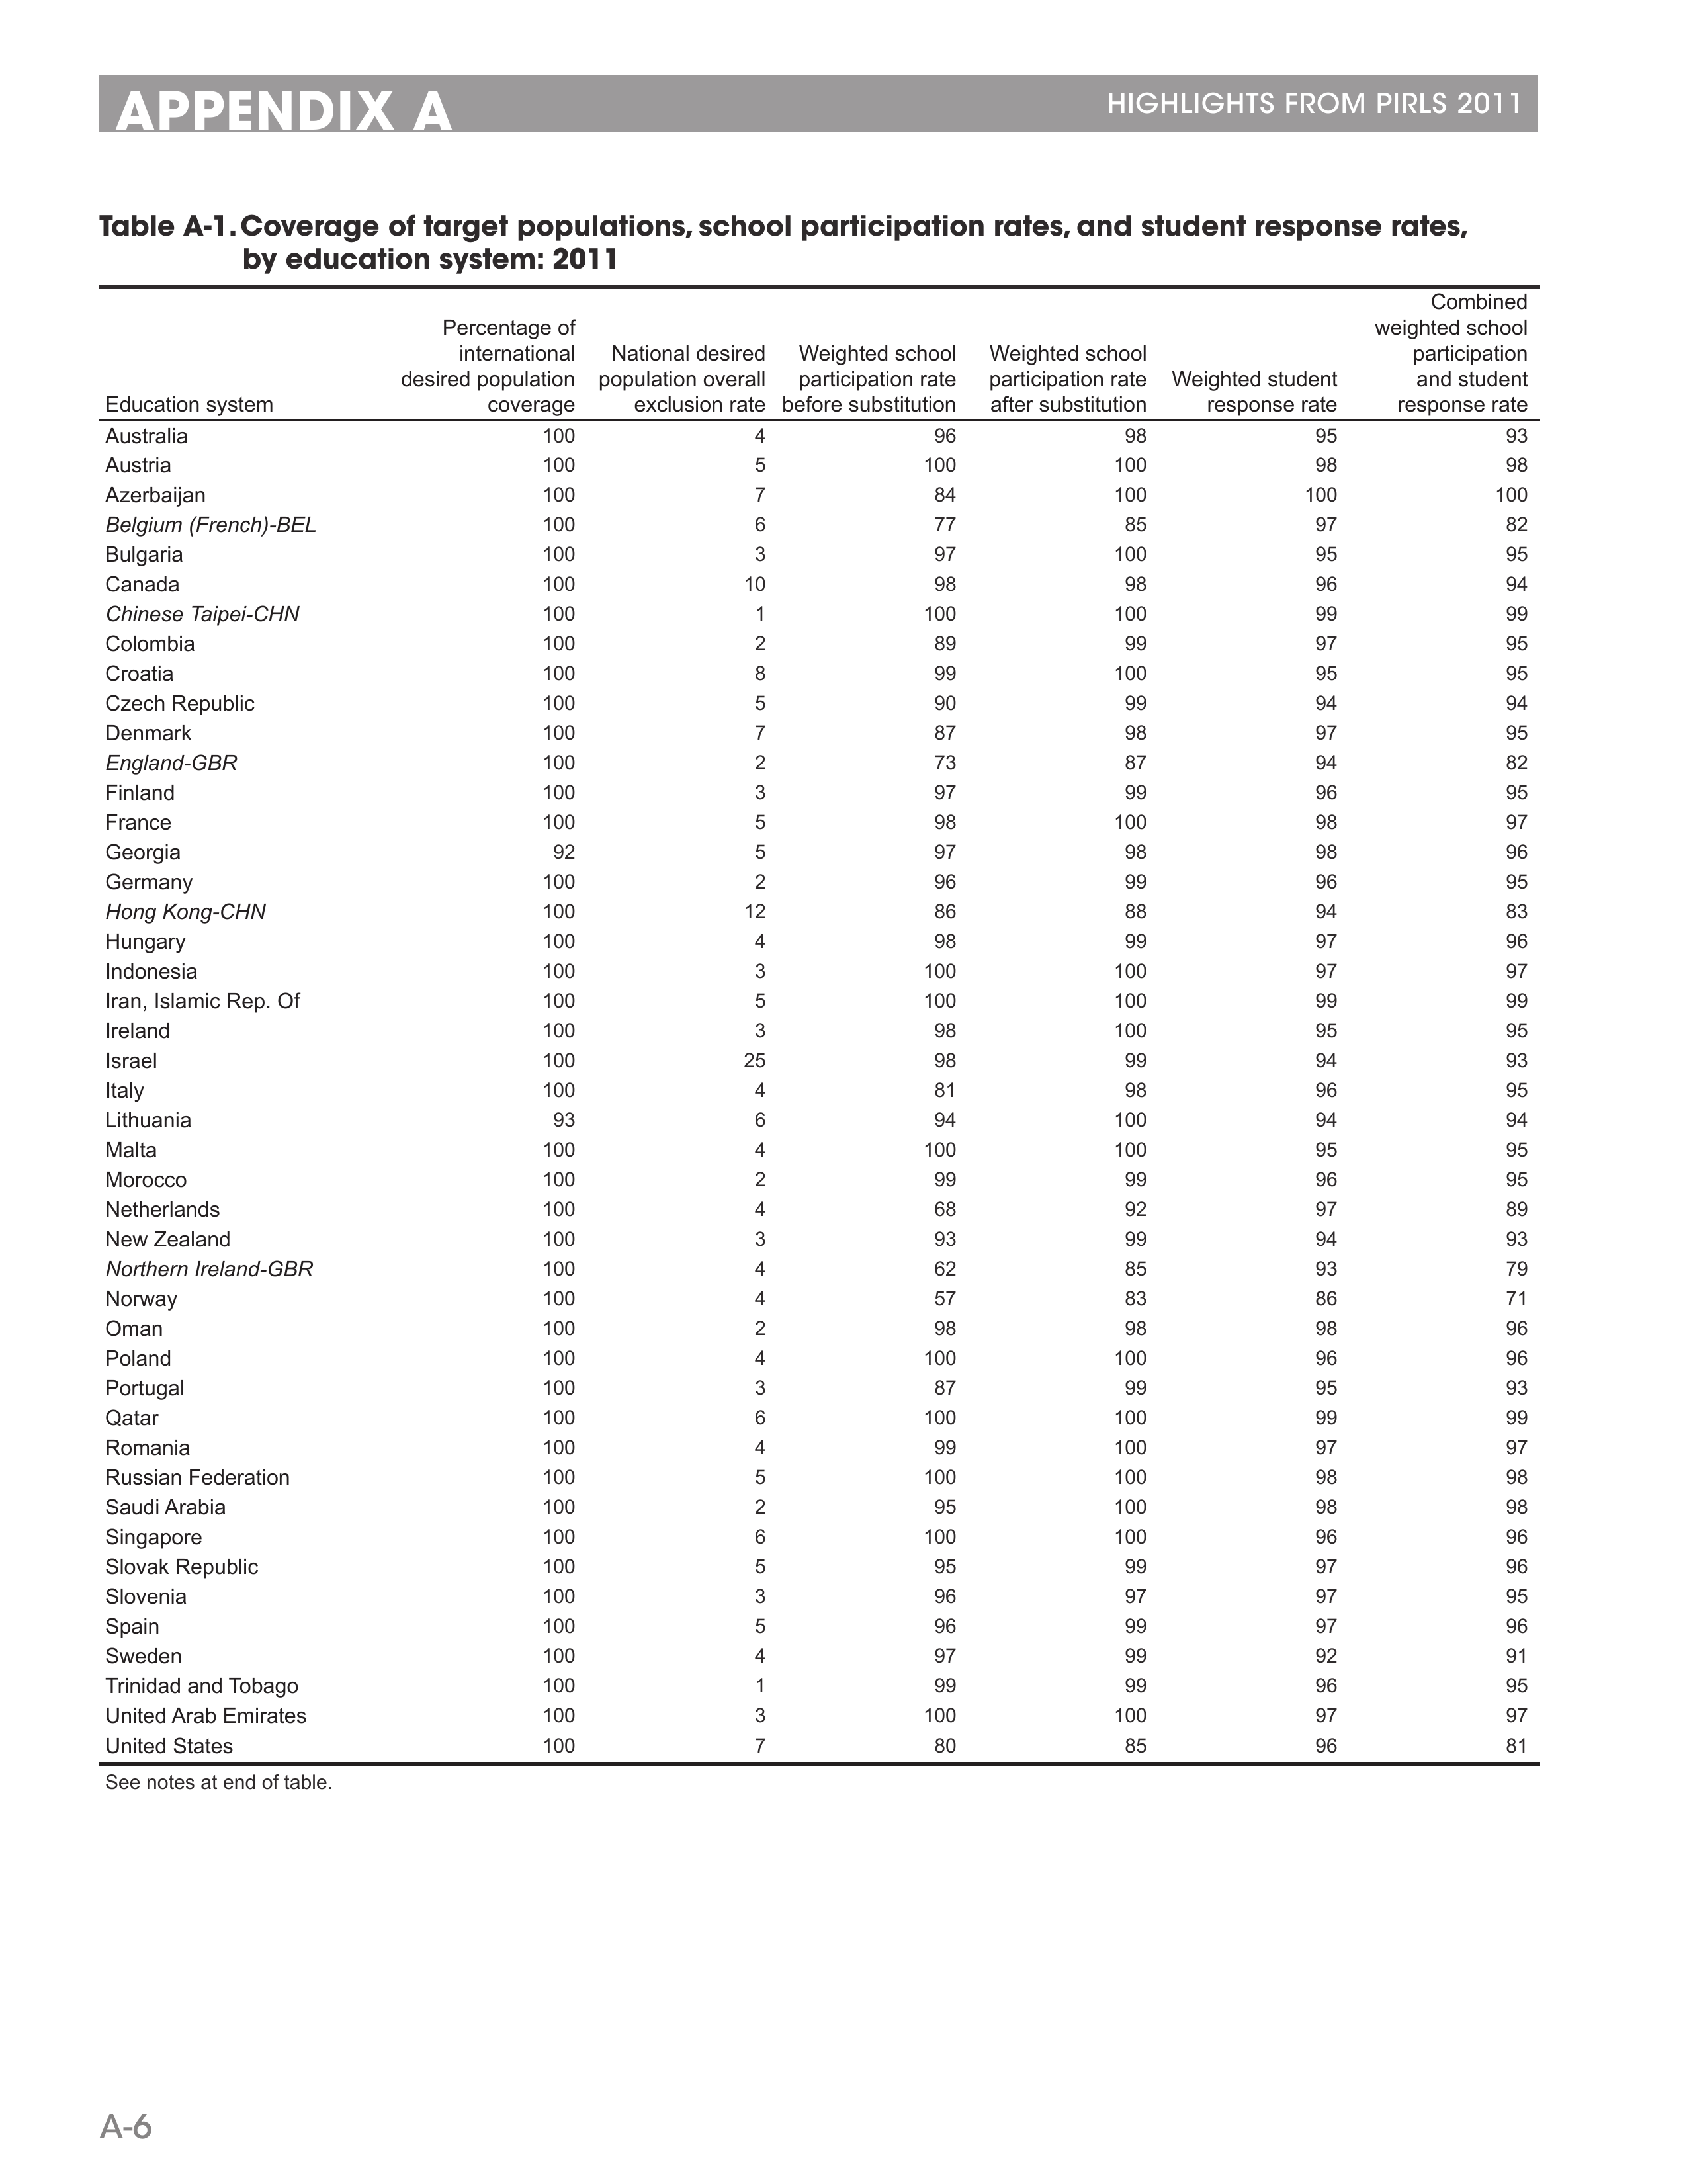table: (83, 282, 1558, 1770)
